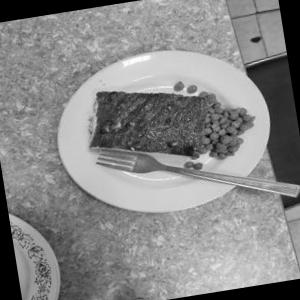casserole: (78, 57, 264, 189)
